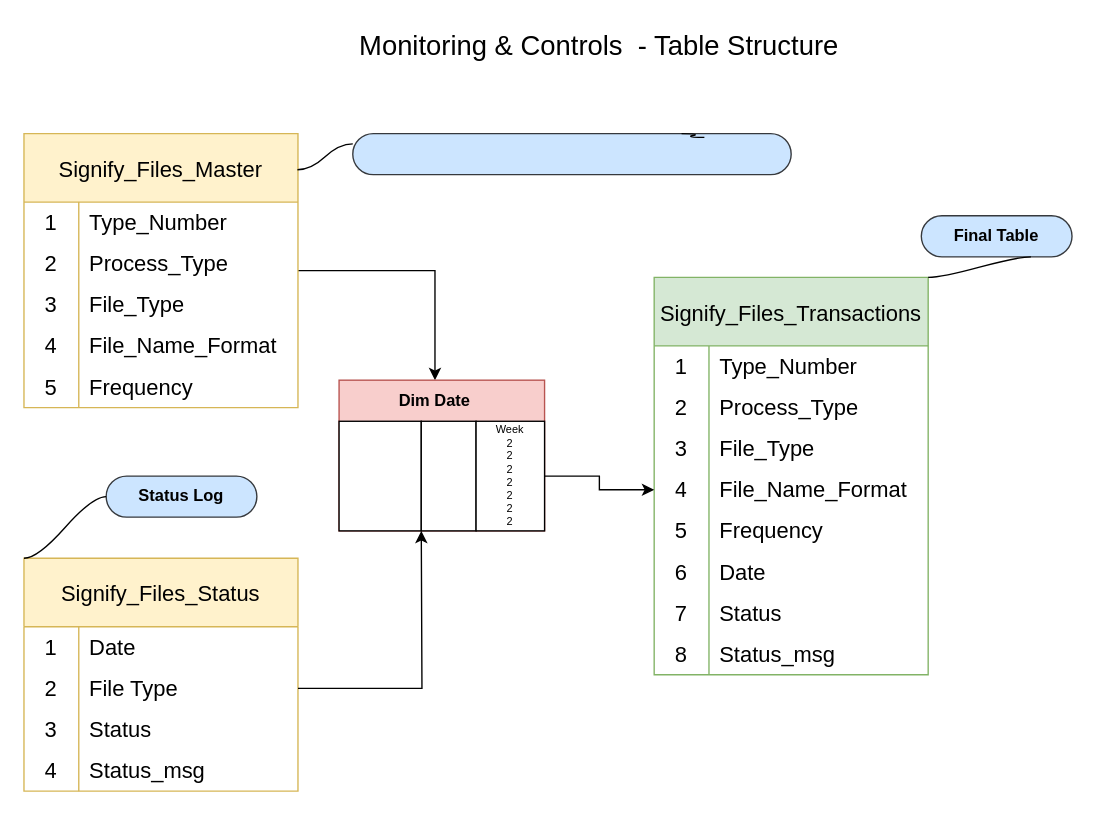
Image size: 1096x815. Some labels were removed from this diagram. The shapes that lost their labels are listed below. From the top down, each one's centre as x and y in pixels, then its label:
At (571,153): "Master Table - All the Signify files needs to monitor".
At (379,475): "Day_of_Week 1 2 3 4 5 6 7".
At (448,475): "Weekday 0 1 1 1 1 1 0".
